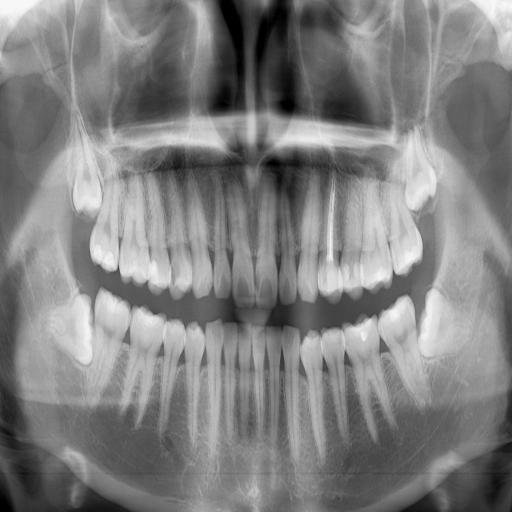Wisdom teeth: (420, 288, 480, 358), (46, 294, 92, 364), (71, 117, 102, 217), (401, 128, 436, 211)
